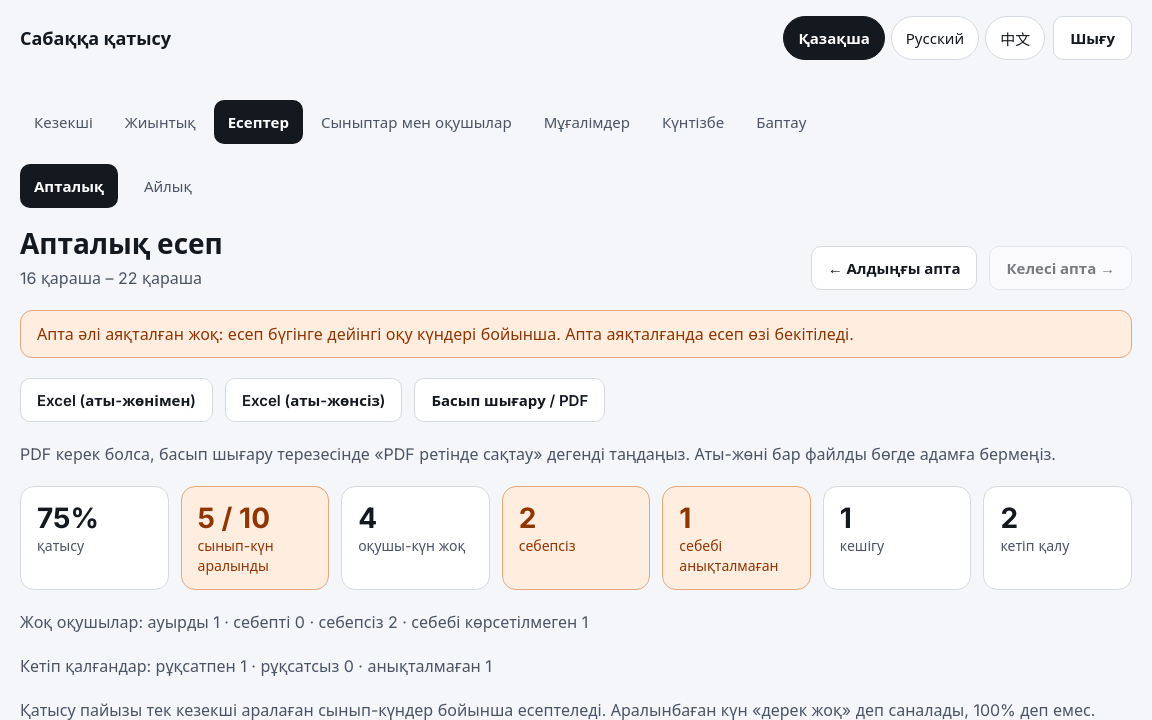
Test: айлық есеп › апталар мен параллельдер кестесі бар, күндер кестесі жоқ; Excel айлық есептікі
The image size is (1152, 720).
What coordinates should you click on to do the following:
click the link "Айлық"
I would click on:
 (168, 186)
Its box is left=144, top=177, right=192, bottom=196.
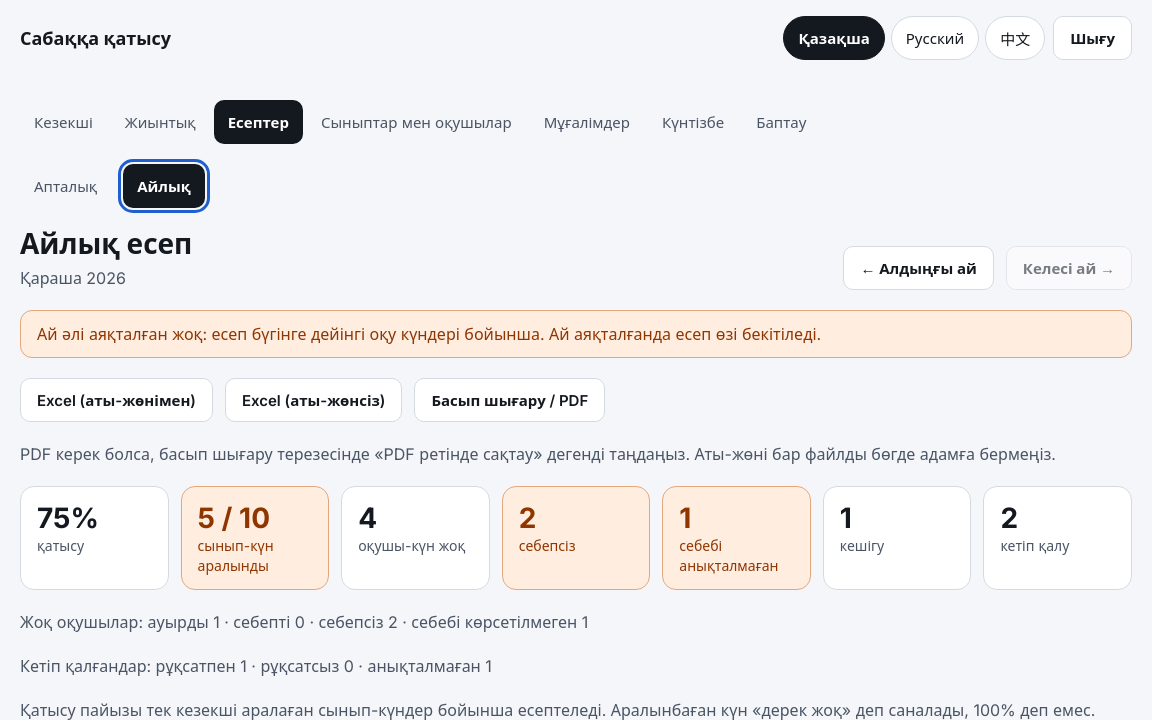
Now the heading "Айлық есеп" is shown, box left=20, top=228, right=192, bottom=262
Now the text "Қараша 2026" is shown, box left=20, top=268, right=126, bottom=288
Now the text "Ай әлі аяқталған жоқ" is shown, box left=37, top=324, right=821, bottom=344
What coordinates should you click on to do the following:
click the link "Апталық"
I would click on:
 (66, 186)
Its box is left=34, top=177, right=97, bottom=196.
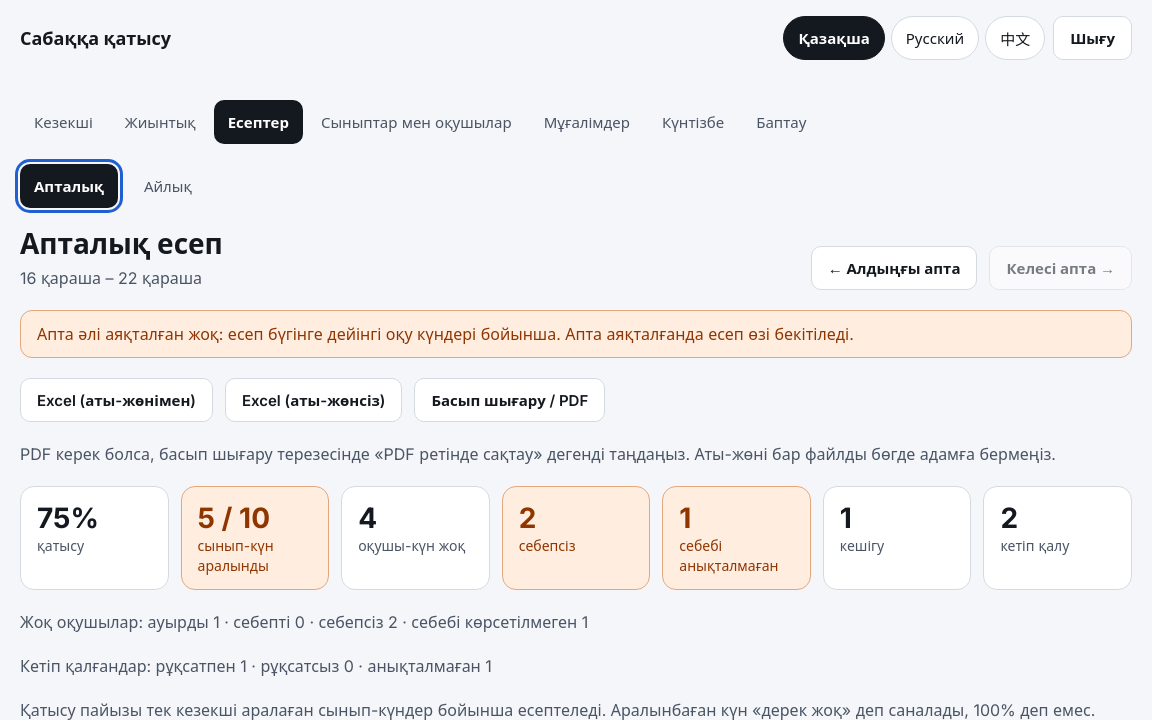
Now the heading "Апталық есеп" is shown, box left=20, top=228, right=223, bottom=262
